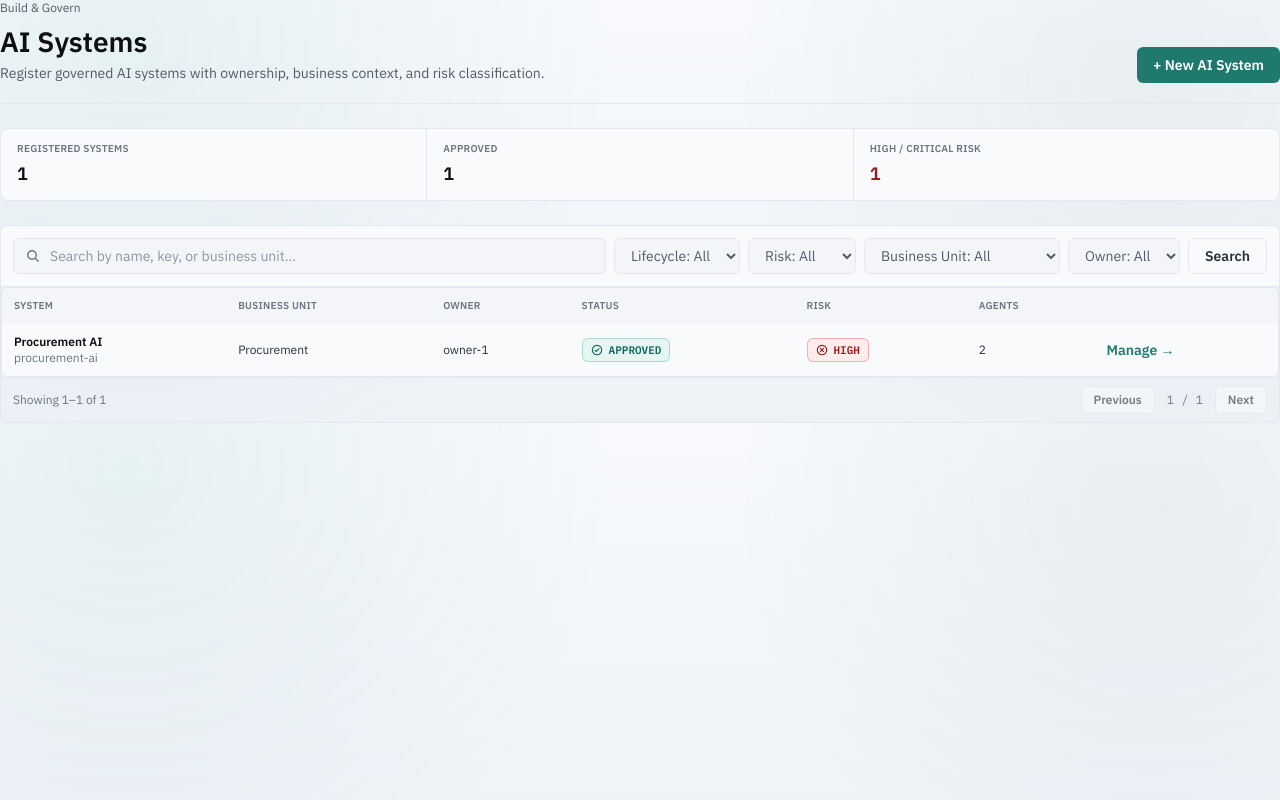
Test: RegistryPage › opens create AI system in a side drawer
The width and height of the screenshot is (1280, 800).
Expected: the text "Procurement AI" is shown, [14,334,102,349]
Click the button "+ New AI System" at (1208, 65), box [1137,47,1279,83]
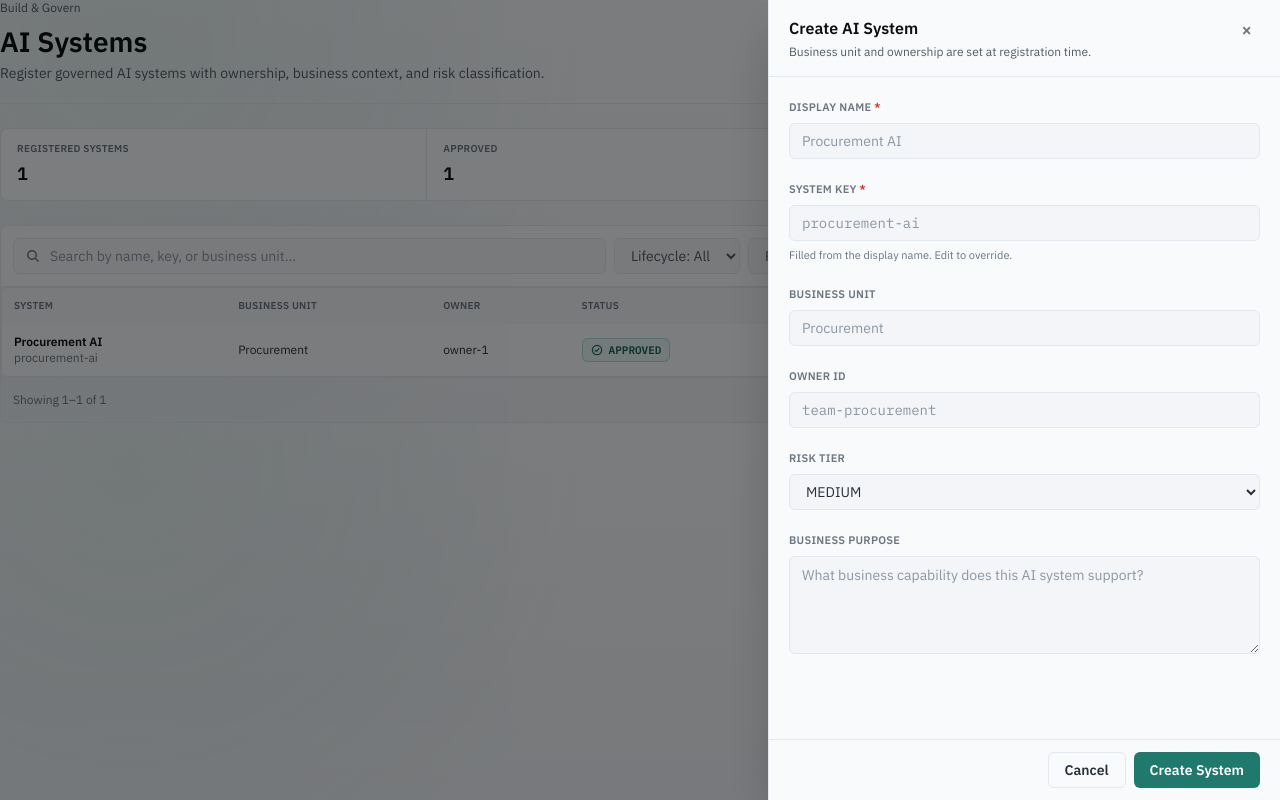
Expected: the dialog with test id "create-ai-system-drawer" is shown
Expected: the heading "Create AI System" is shown, [789,18,918,38]
Expected: the dialog with test id "create-ai-system-drawer" shows "System Key", [789,182,857,196]
